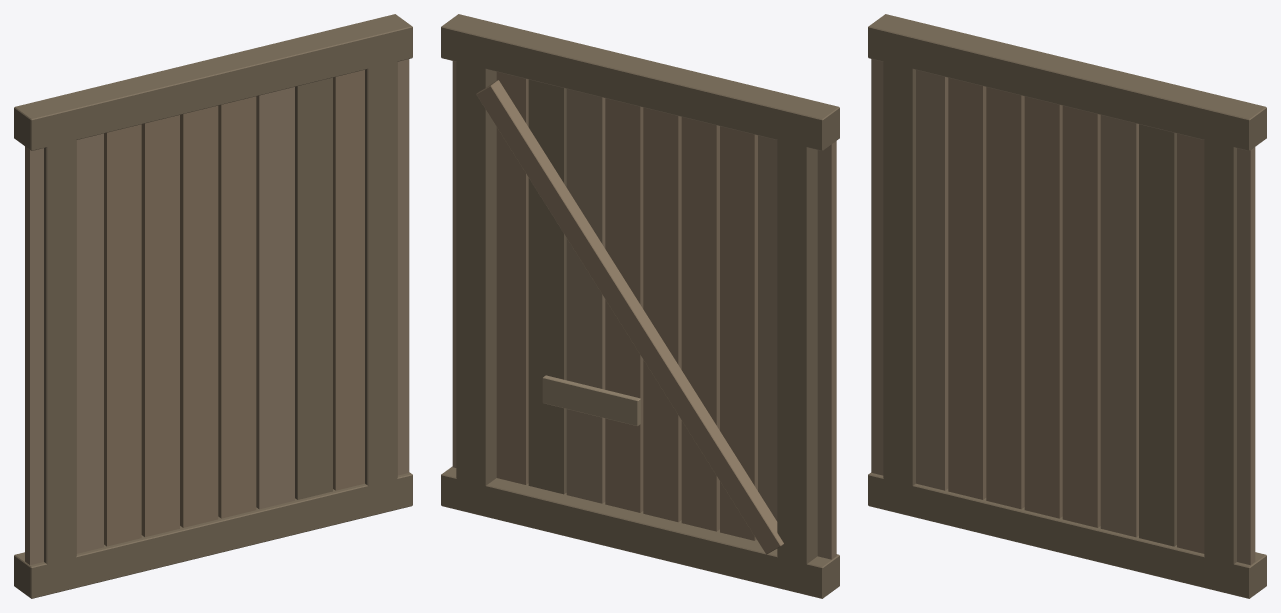
The model's file is env_wall_plank_a.glb.
3 views of the same model, side by side, from view 1: azimuth 30°, elevation 25°; view 2: azimuth 150°, elevation 25°; view 3: azimuth 330°, elevation 25° (orthographic).
Visible parts, largest first — view 1: material_0, material_2, material_1; view 2: material_2, material_0, material_1, material_3; view 3: material_2, material_0, material_1.
Boxes of the visible parts, x1,y1,x2,y2 form: material_0: [104, 70, 364, 546]; material_2: [14, 14, 412, 598]; material_1: [25, 59, 409, 565]; material_2: [441, 14, 839, 598]; material_0: [476, 72, 783, 554]; material_1: [452, 61, 836, 559]; material_3: [542, 375, 640, 426]; material_2: [868, 14, 1266, 598]; material_0: [948, 77, 1204, 553]; material_1: [871, 59, 1255, 565].
Bounding box in the file's own units: 2 × 2.4 × 0.19.
